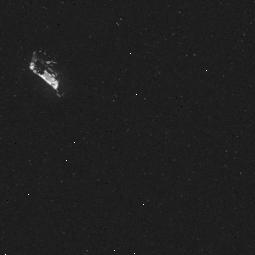lisa_pathfinder: (11, 33, 81, 116)
